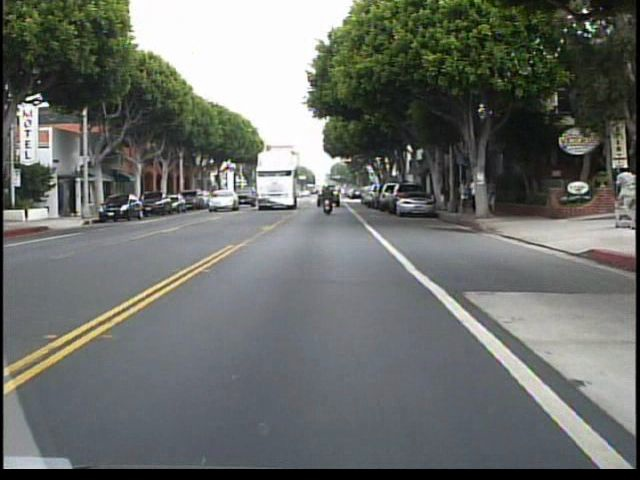person: (318, 180, 337, 219), (487, 174, 501, 218), (456, 175, 470, 215), (470, 175, 481, 215)
